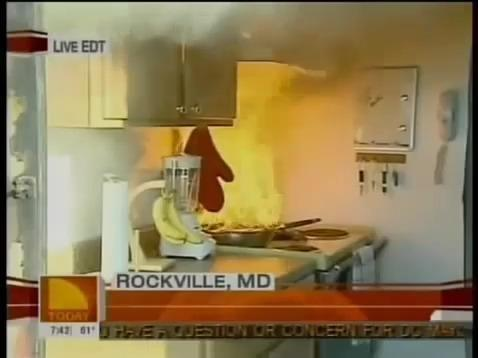fire: (200, 63, 306, 234)
